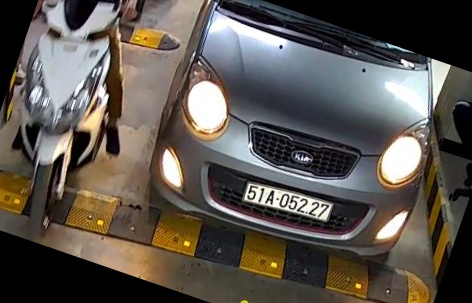plate: (240, 175, 333, 230)
